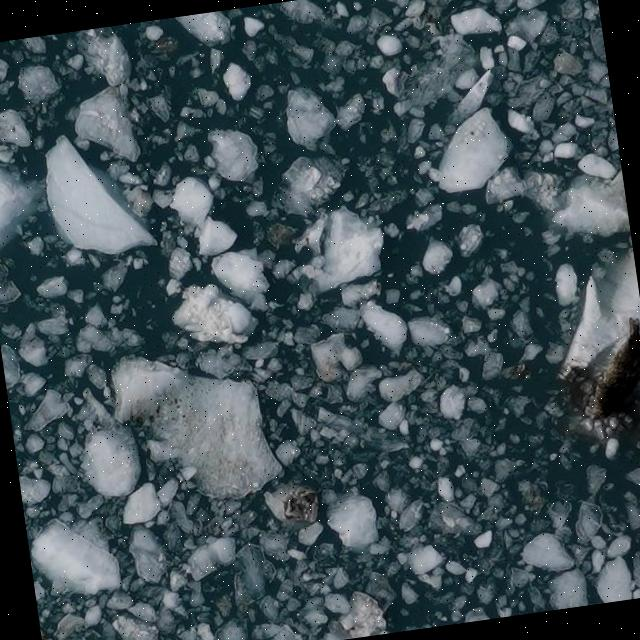seal: (593, 315, 640, 420)
